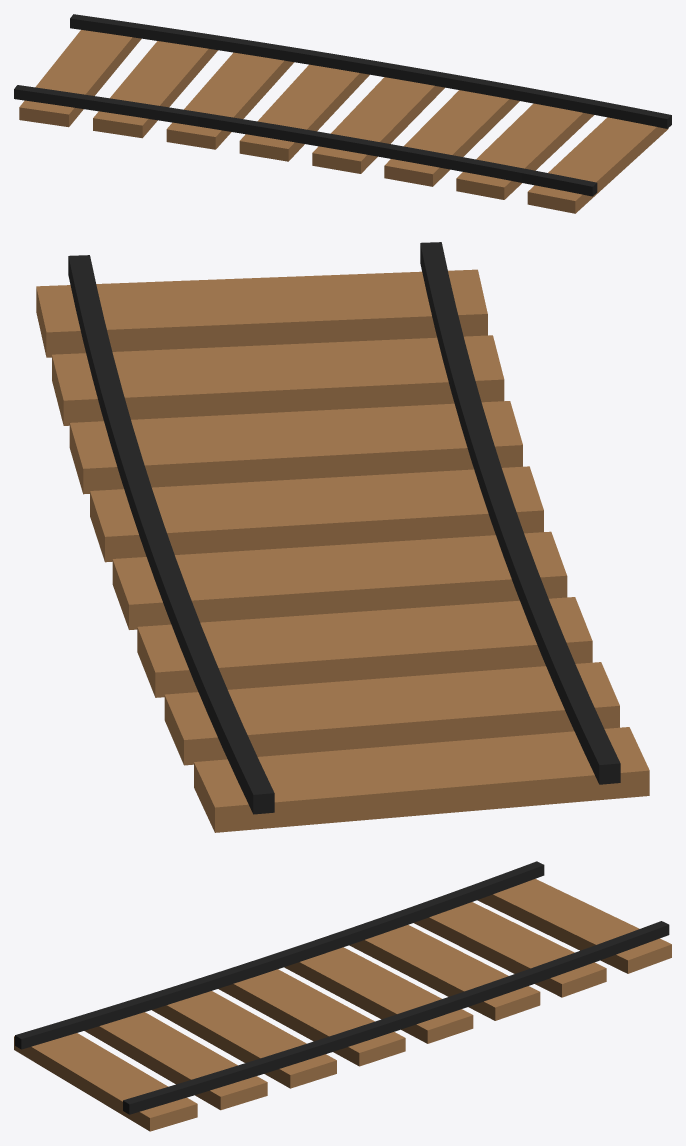
File: mesh_OwsiecimTrainTracksBending.fbx
3 views of the same model, one above another, from view 1: azimuth 30°, elevation 25°; view 2: azimuth 150°, elevation 25°; view 3: azimuth 270°, elevation 25° (orthographic). The views are drawn at different scales.
Parts seen in each view (by area): view 1: TracksBending; view 2: TracksBending; view 3: TracksBending.
Part boxes in pixels (bbox=[...]): TracksBending: bbox=[14, 14, 671, 213]; TracksBending: bbox=[36, 242, 649, 832]; TracksBending: bbox=[14, 861, 671, 1131].
Bounding box in the file's own units: 579 × 25.93 × 647.
